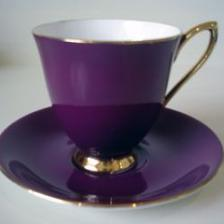purple: (0, 107, 224, 205), (34, 35, 180, 106), (53, 105, 162, 153)
